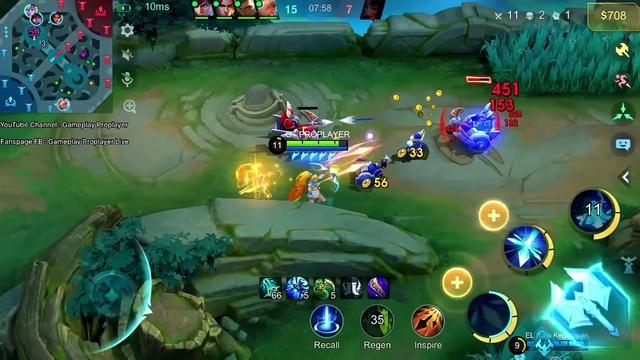Adc_Aliado: (22, 2, 37, 14)
Arbusto: (482, 22, 639, 94)
Esbirro_Aliado: (269, 102, 332, 139)
Esbirro_Enemigo: (450, 103, 500, 153)
Exp_Aliado: (56, 97, 71, 110)
HP_Heroe_Principal: (286, 140, 347, 146)
Hechizo_Batalla: (411, 305, 443, 337)
Mana: (286, 146, 350, 152)
Mid_Aliado: (29, 13, 43, 24)
Minimapa: (0, 0, 112, 112)
Miya: (288, 163, 338, 202)
Roamer_Aliado: (50, 10, 65, 25)
Skill2: (505, 225, 553, 270)
Torre_destruida: (229, 84, 284, 124)
